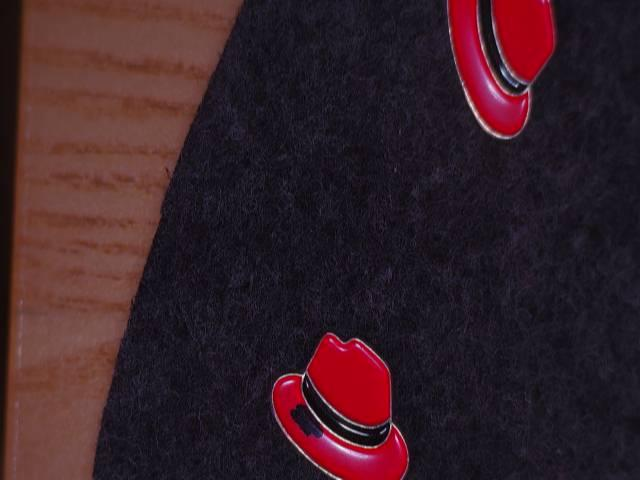Red-Hat: (250, 331, 439, 480), (423, 0, 560, 166)
Scratch: (281, 390, 344, 449)
